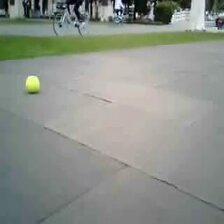tennis: (25, 76, 40, 93)
